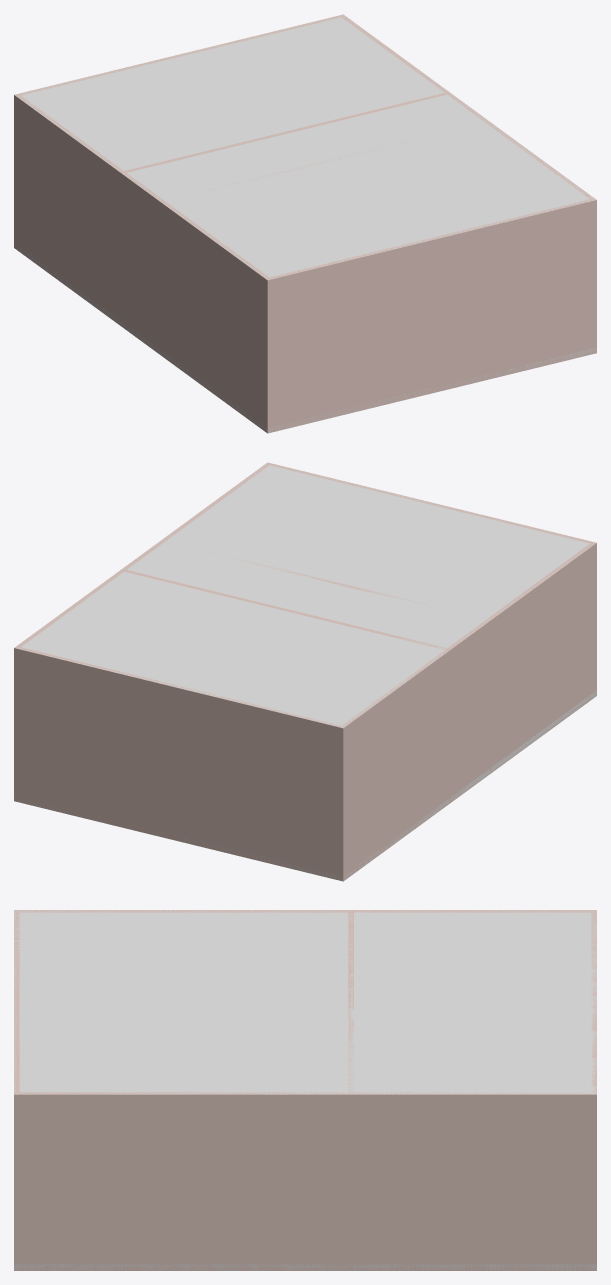
File: Rooms.fbx
The picture shows the model from 3 angles, top to bottom: view 1: azimuth 30°, elevation 25°; view 2: azimuth 150°, elevation 25°; view 3: azimuth 270°, elevation 25°; orthographic projection. The views are drawn at different scales.
Parts seen in each view (by area): view 1: Room, Ceiling, Baseboard, Wall 2; view 2: Room, Ceiling, Baseboard, Wall 2; view 3: Room, Ceiling, Baseboard, Wall 2, Wall 1.
Part boxes in pixels (x1,y1,x2,y2): Room: [14, 14, 596, 433]; Ceiling: [15, 15, 595, 279]; Baseboard: [14, 244, 596, 433]; Wall 2: [119, 92, 450, 326]; Room: [14, 462, 596, 881]; Ceiling: [15, 463, 593, 727]; Baseboard: [15, 690, 596, 880]; Wall 2: [120, 569, 451, 803]; Room: [14, 910, 596, 1270]; Ceiling: [14, 910, 596, 1094]; Baseboard: [14, 1264, 596, 1270]; Wall 2: [348, 910, 353, 1270]; Wall 1: [257, 1095, 262, 1270].
Bounding box in the file's own units: 900 × 410 × 1200.
